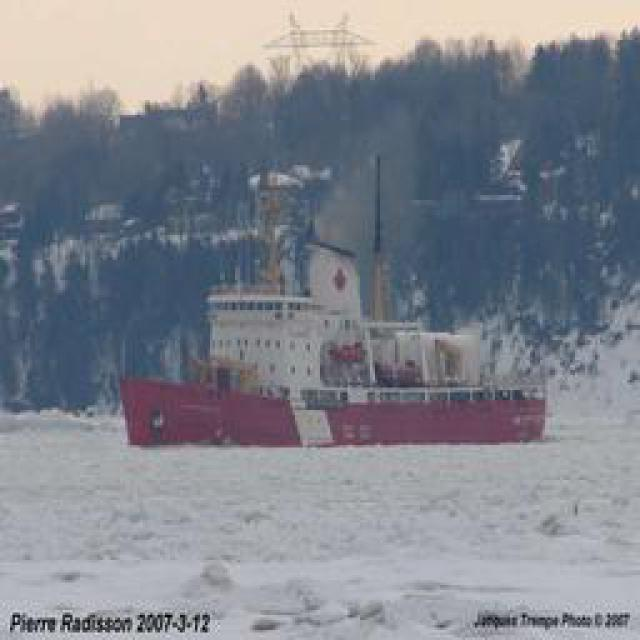Ship: (129, 361, 552, 449)
